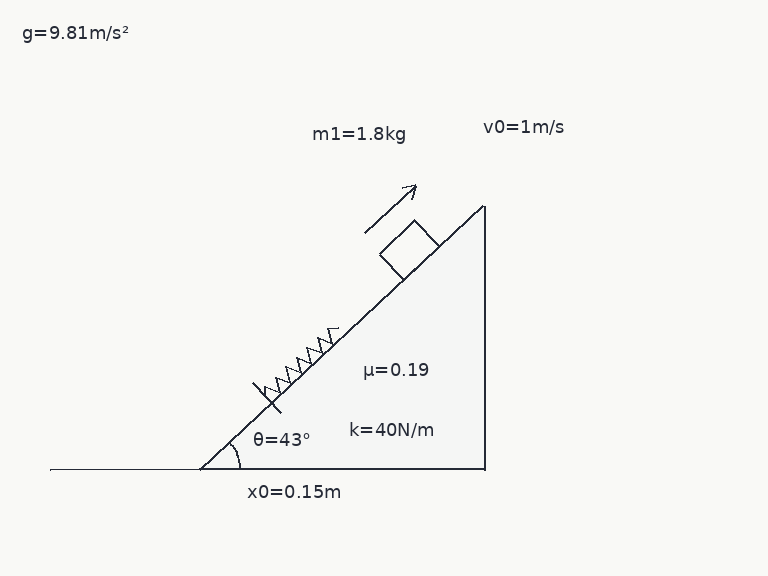block: (377, 218, 441, 281)
ramp: (198, 203, 485, 471)
spring: (263, 326, 340, 398)
